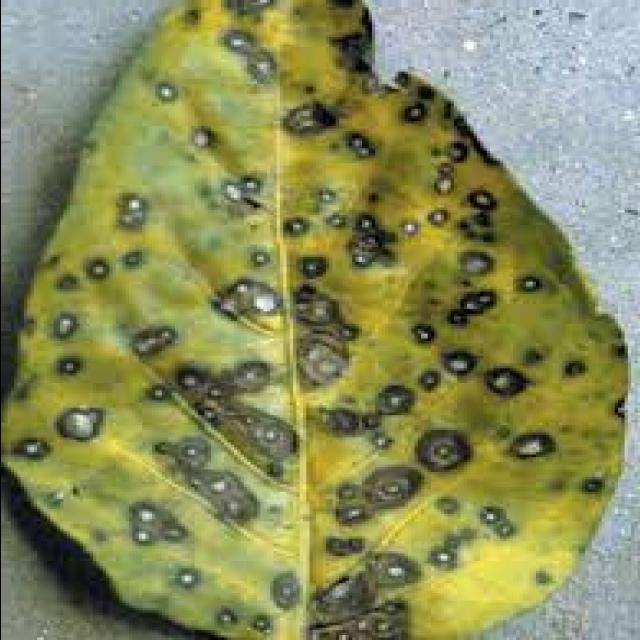bercak_daun: (1, 9, 624, 638)
